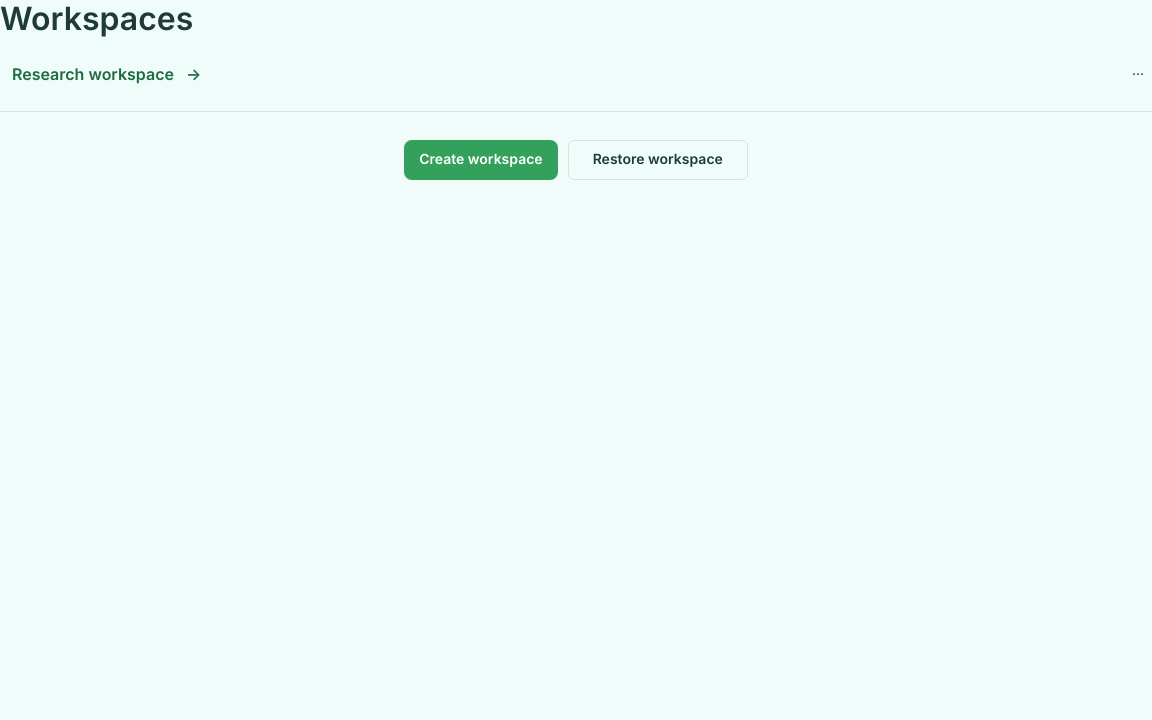
Test: archives from management without leaving the workspace list
Step 1. Click the button "···" → (1138, 75), box [1124, 60, 1151, 90]
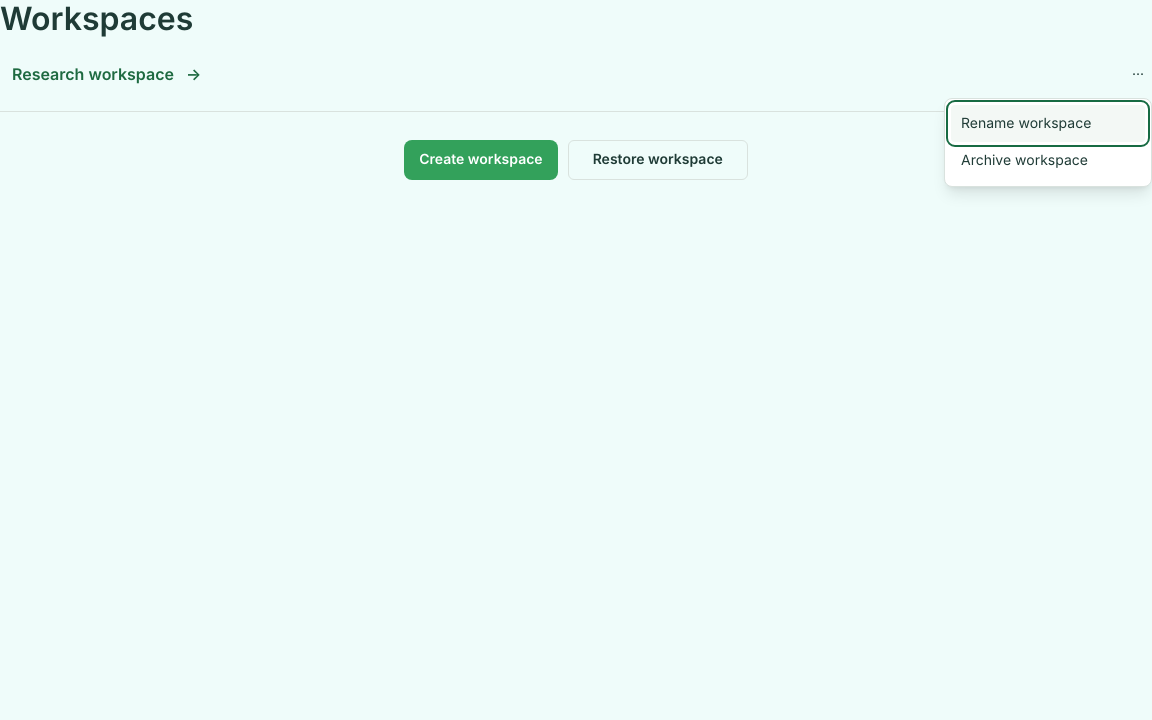
Step 2. Click the menu item "Archive workspace" → (1048, 161), box [951, 142, 1145, 180]
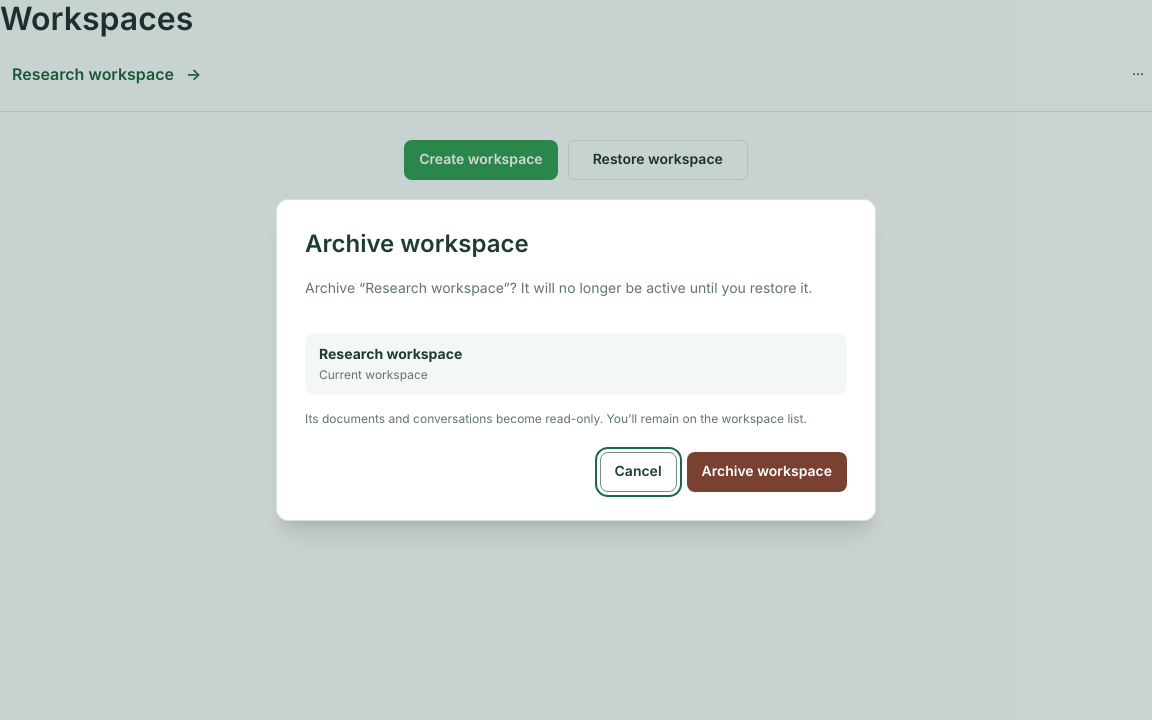
Step 3. Click the button "Archive workspace" → (767, 472), box [687, 452, 847, 492]
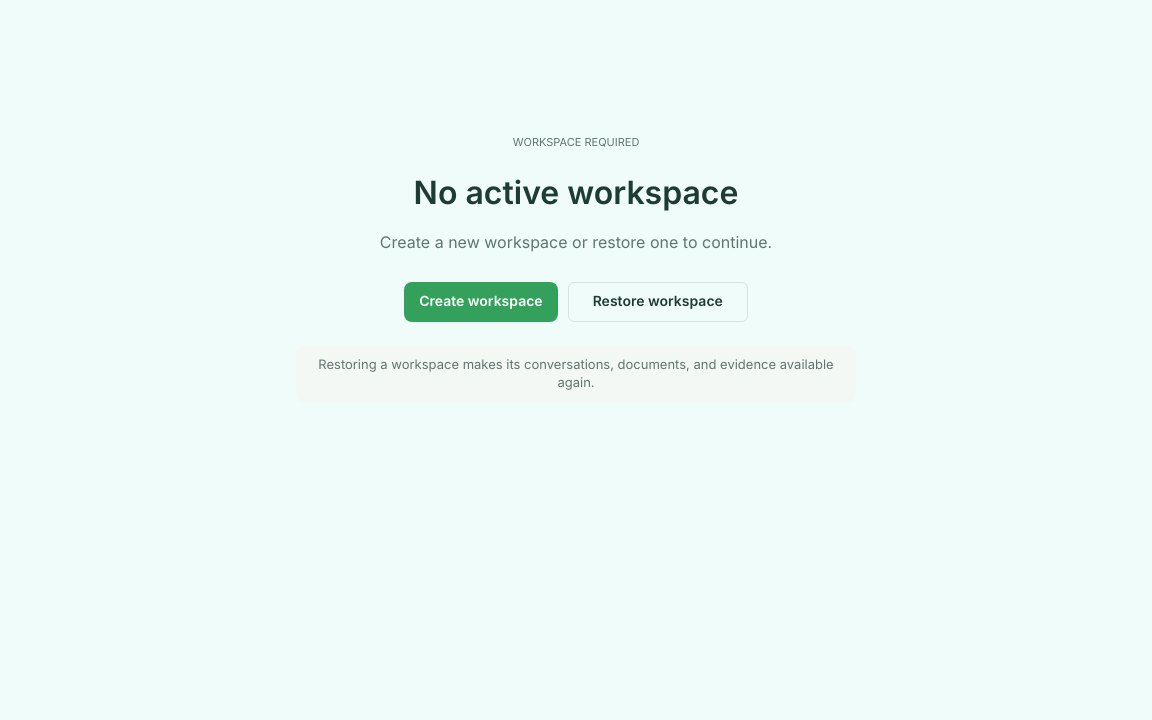
Check: the dialog is gone
